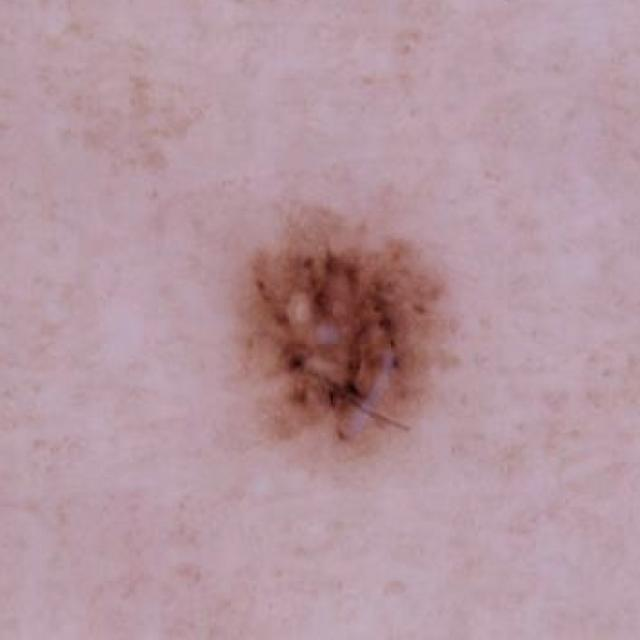BKL: (205, 209, 443, 490)
